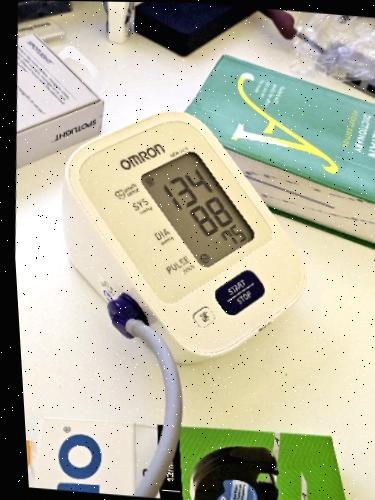bpm: (135, 138, 258, 274)
